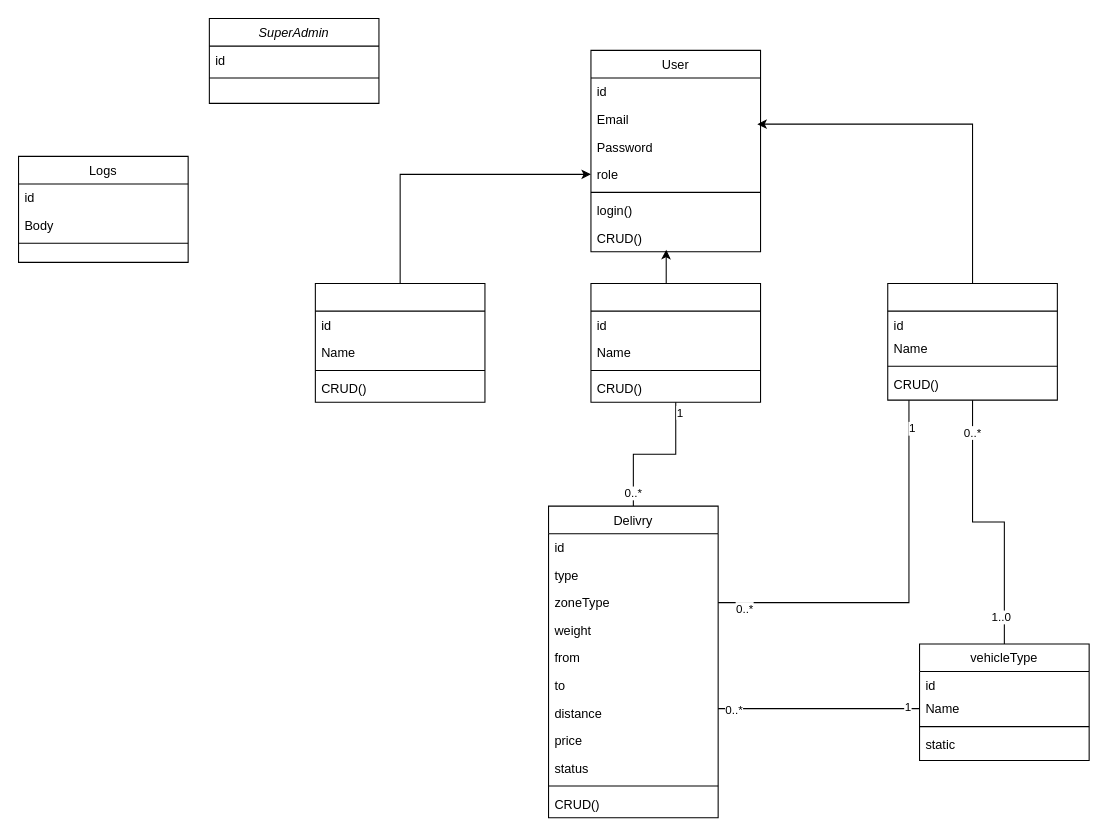
The diagram is 1108 pixels wide and 840 high, and some of its shapes have lost their labels. Here are the shapes that lost their labels. From the top down, the box of each, then its label:
(314, 282, 485, 402): Manager
(590, 282, 761, 402): DeliveryManager
(887, 282, 1057, 400): Driver
